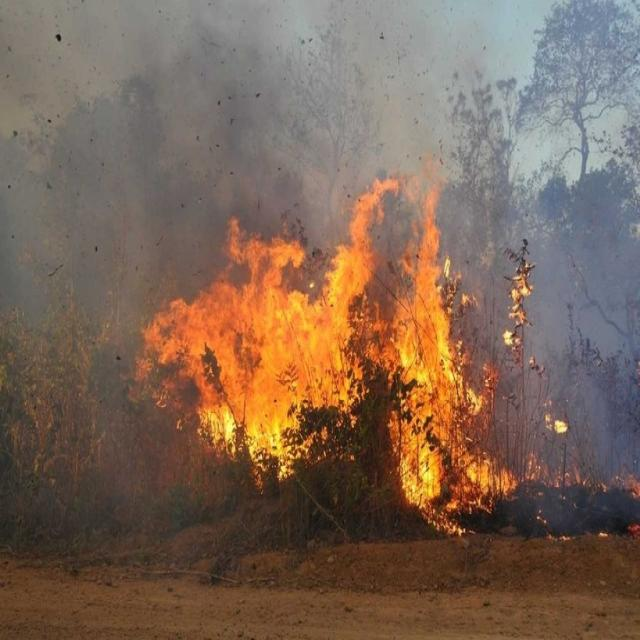fire: (220, 266, 362, 464), (394, 263, 474, 532)
smoke: (106, 9, 446, 152), (17, 169, 182, 283)
